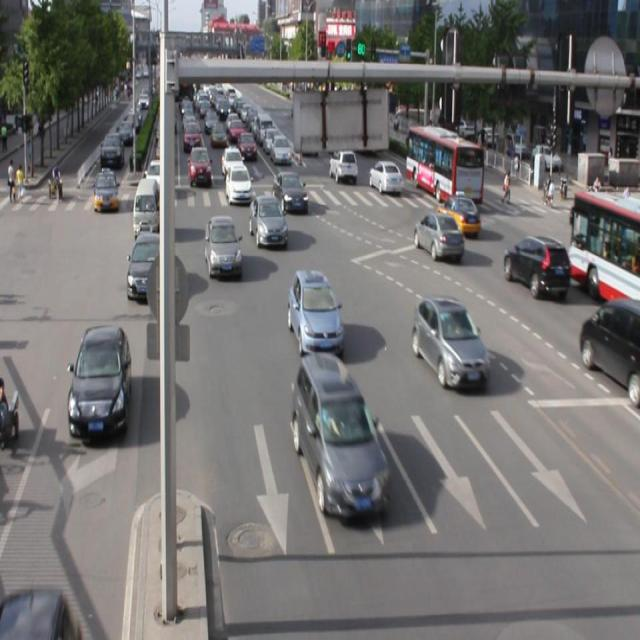car: (291, 351, 388, 520), (408, 294, 488, 392), (68, 324, 132, 438), (578, 297, 640, 408), (502, 232, 570, 304), (287, 268, 343, 355), (1, 585, 80, 640), (126, 229, 168, 301), (413, 210, 463, 262), (204, 214, 241, 277), (249, 195, 287, 248), (438, 194, 481, 236)
truck: (134, 177, 160, 238)
van: (568, 186, 640, 312)
